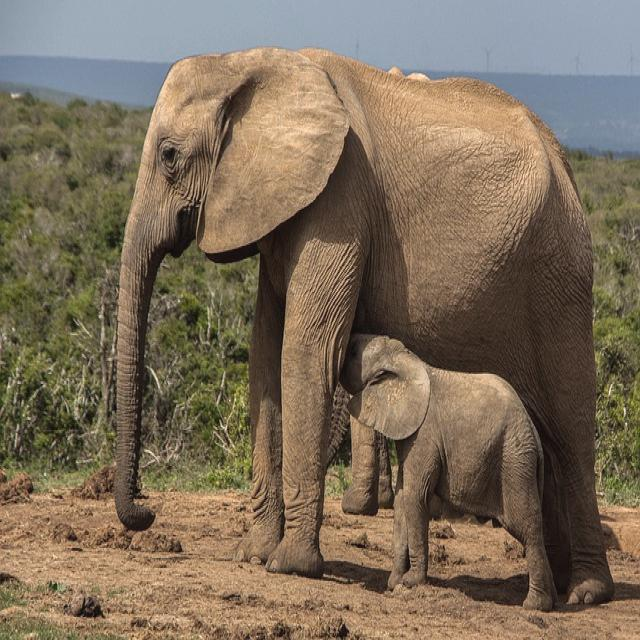FIL: (109, 34, 620, 604), (343, 325, 560, 609)
